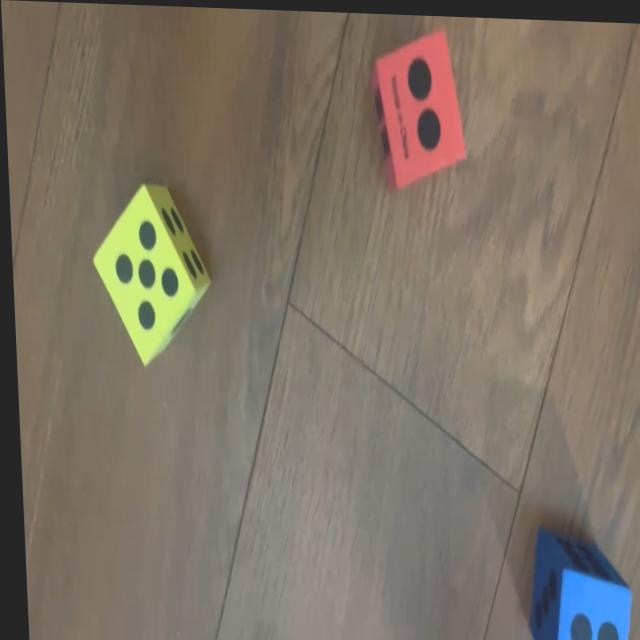blue_block: (519, 528, 628, 640)
red_block: (369, 27, 464, 188)
